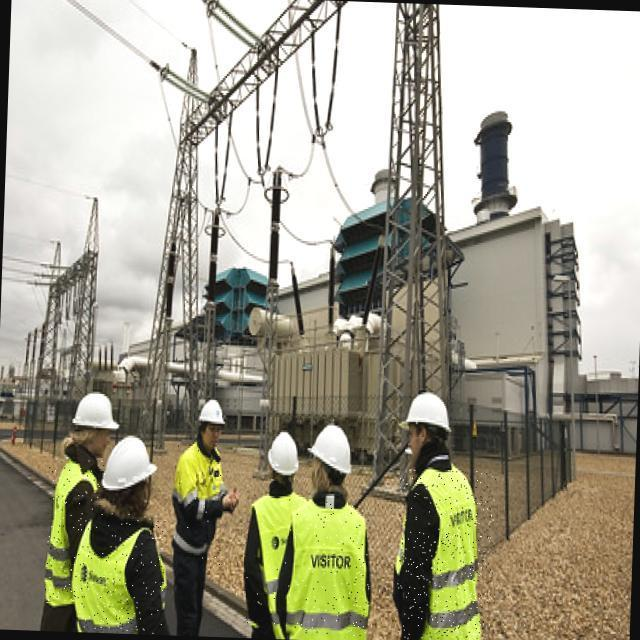helmet: (93, 429, 161, 499), (397, 383, 459, 443), (301, 425, 361, 477), (259, 427, 307, 488), (71, 383, 121, 437), (193, 393, 237, 433)
vest: (394, 468, 496, 640), (287, 500, 372, 640), (75, 512, 165, 635), (244, 493, 308, 640), (44, 458, 104, 605), (170, 443, 230, 569)
